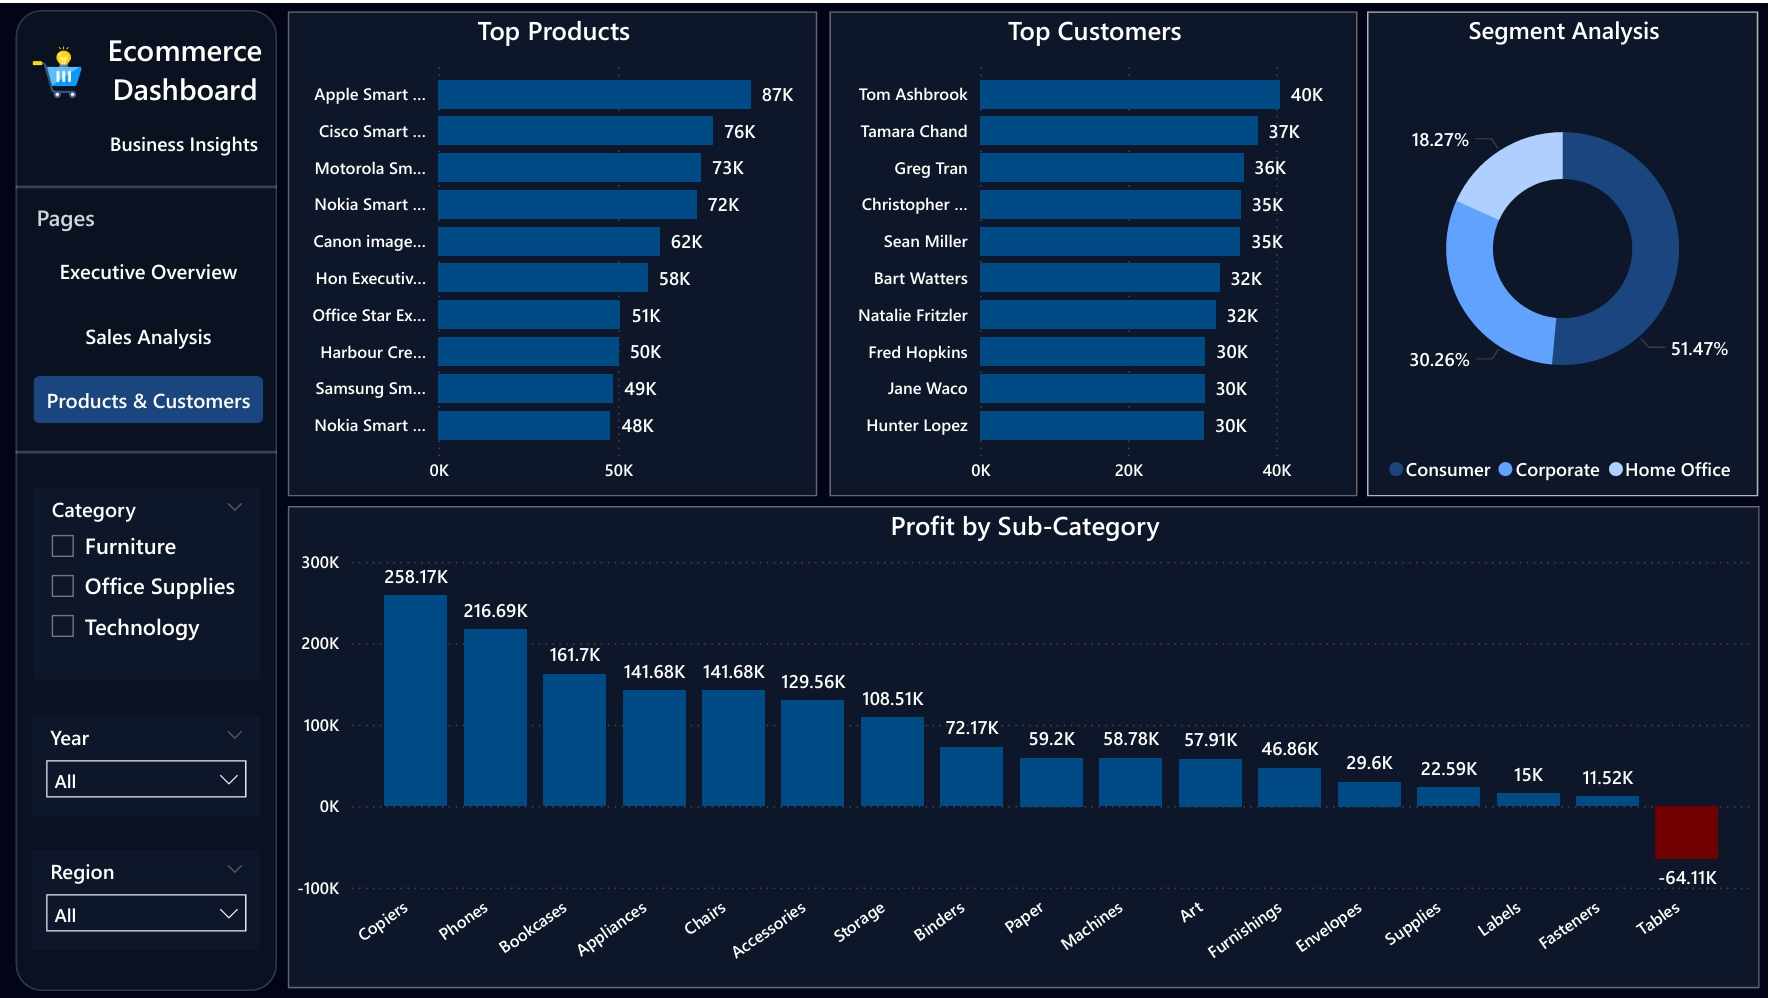

The dashboard page shown, as its layout file describes it:
{"tool":"powerbi","page":{"name":"Product & Customers","canvas":[1280,720],"ordinal":2},"visuals":[{"type":"shape","box":[12.1,4.8,189.4,710.6],"z":0},{"type":"textbox","box":[65.1,14.5,138.7,72.4],"z":1000},{"type":"image","box":[21.7,30.2,40,40],"z":2000},{"type":"textbox","box":[74.8,86.9,120.6,29],"z":3000},{"type":"shape","box":[12.1,126.7,189.4,12.1],"z":4000},{"type":"textbox","box":[21.7,138.7,177.3,38.6],"z":5000},{"type":"actionButton","box":[25.3,177.3,165.3,34],"z":6000},{"type":"actionButton","box":[25.3,223.8,165.3,34],"z":7000},{"type":"shape","box":[12.1,318.5,189.4,12.1],"z":8000},{"type":"slicer","fields":{"Values":["Sales Data.year"]},"box":[24.1,516.4,165.3,72.4],"z":9000},{"type":"slicer","fields":{"Values":["Sales Data.region"]},"box":[24.1,612.9,165.3,72.4],"z":10000},{"type":"slicer","fields":{"Values":["Sales Data.category"]},"box":[25.3,351.1,164.1,137.5],"z":11000},{"type":"actionButton","box":[25.3,270.2,165.3,34],"z":12000},{"type":"clusteredBarChart","title":"Top Products ","fields":{"Category":["Dataset1.product_name"],"Y":["Sum(Dataset1.sales)"]},"box":[208.7,6,383.6,351.1],"z":13000},{"type":"clusteredBarChart","title":"Top Customers","fields":{"Category":["Dataset1.customer_name"],"Y":["Sum(Dataset1.sales)"]},"box":[600.8,6,382.4,351.1],"z":14000},{"type":"donutChart","title":"Segment Analysis","fields":{"Category":["Dataset1.segment"],"Y":["Sum(Dataset1.sales)"]},"box":[990.5,6,282.3,351.1],"z":15000},{"type":"clusteredColumnChart","title":"Profit by Sub-Category","fields":{"Category":["Dataset1.sub_category"],"Y":["Sum(Dataset1.profit)"]},"box":[208.7,364.3,1065.3,348.7],"z":16000}]}

Visuals, with their boxes on the page's 1280x720 design canvas (x1, y1, x2, y2). These are canvas units, not pixel positions in the 1769x998 screenshot, which may show the page scaled, cropped or inside an application window:
shape: bbox(12, 5, 202, 715)
textbox: bbox(65, 14, 204, 87)
image: bbox(22, 30, 62, 70)
textbox: bbox(75, 87, 195, 116)
shape: bbox(12, 127, 202, 139)
textbox: bbox(22, 139, 199, 177)
actionButton: bbox(25, 177, 191, 211)
actionButton: bbox(25, 224, 191, 258)
shape: bbox(12, 318, 202, 331)
slicer - Sales Data.year: bbox(24, 516, 189, 589)
slicer - Sales Data.region: bbox(24, 613, 189, 685)
slicer - Sales Data.category: bbox(25, 351, 189, 489)
actionButton: bbox(25, 270, 191, 304)
"Top Products " clusteredBarChart: bbox(209, 6, 592, 357)
"Top Customers" clusteredBarChart: bbox(601, 6, 983, 357)
"Segment Analysis" donutChart: bbox(990, 6, 1273, 357)
"Profit by Sub-Category" clusteredColumnChart: bbox(209, 364, 1274, 713)
